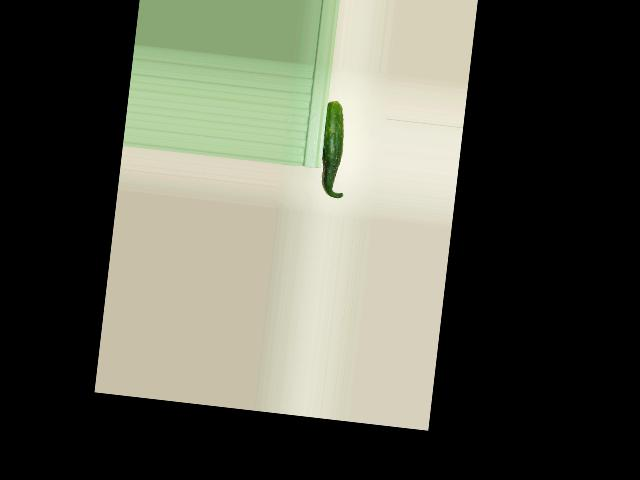cucumber: (317, 100, 353, 199)
